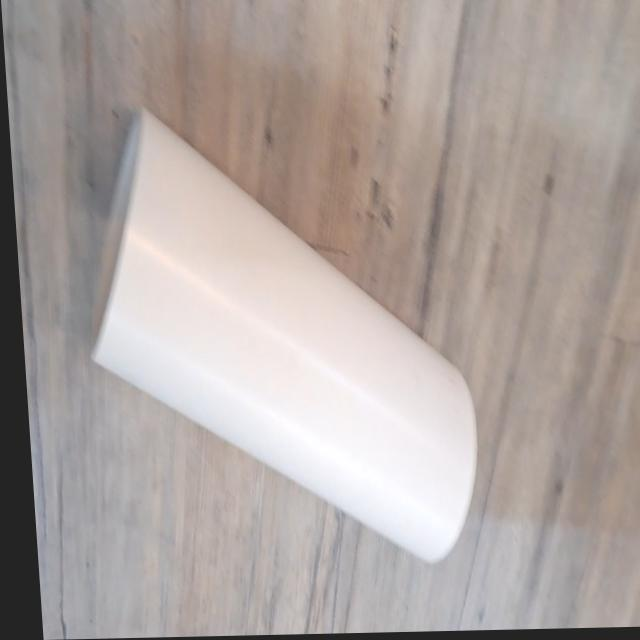CORAL: (69, 79, 494, 578)
